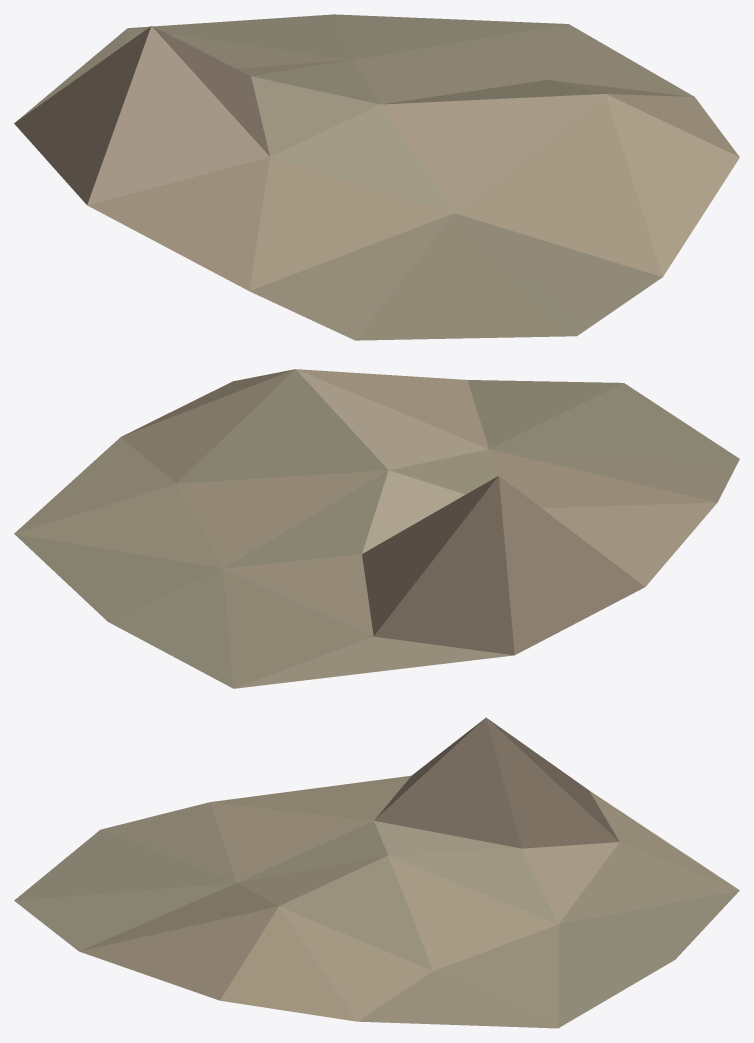
Rendered from kit_dry_a.glb.
3 views of the same model, one above another, from view 1: azimuth 30°, elevation 25°; view 2: azimuth 150°, elevation 25°; view 3: azimuth 270°, elevation 25° (orthographic). The views are drawn at different scales.
Visible parts, largest first — view 1: kit_dry_a; view 2: kit_dry_a; view 3: kit_dry_a.
Boxes of the visible parts, x1,y1,x2,y2 form: kit_dry_a: (14, 14, 739, 340); kit_dry_a: (14, 369, 739, 688); kit_dry_a: (14, 717, 739, 1028).
Bounding box in the file's own units: 26.79 × 6.37 × 34.41.
